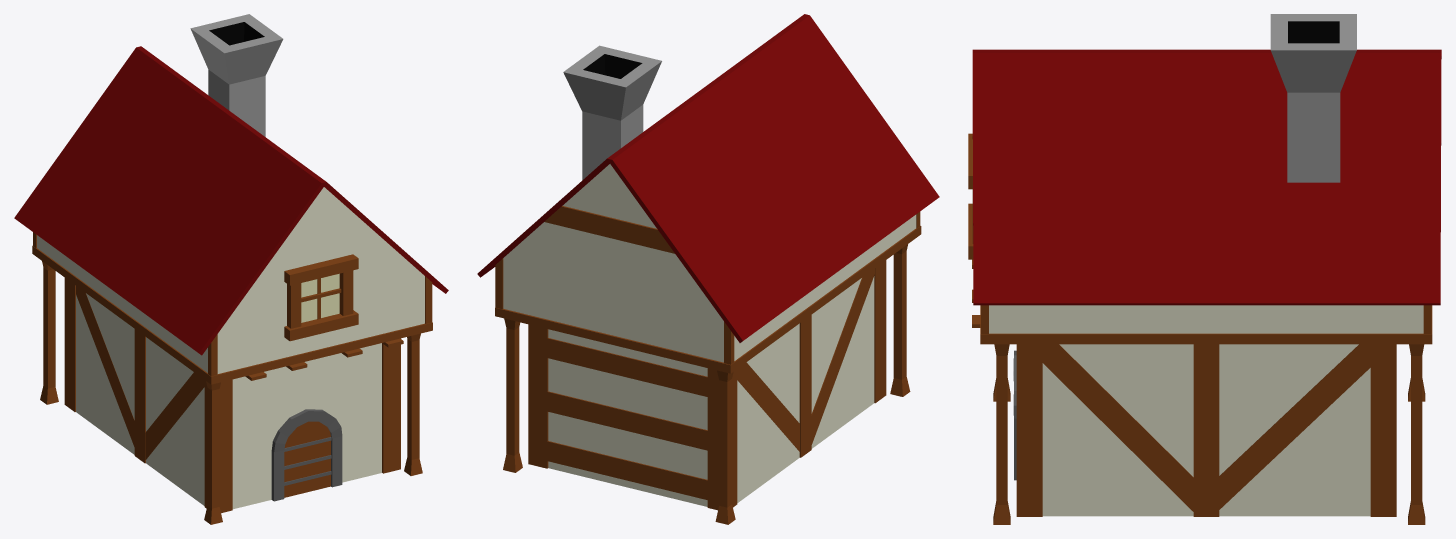
File: House1.fbx
The picture shows the model from 3 angles, left to right: view 1: azimuth 30°, elevation 25°; view 2: azimuth 150°, elevation 25°; view 3: azimuth 270°, elevation 25°; orthographic projection. The views are drawn at different scales.
Visible parts, largest first — view 1: House1; view 2: House1; view 3: House1.
Boxes of the visible parts, left/top/right/bottom form: House1: left=14, top=14, right=448, bottom=524; House1: left=477, top=14, right=939, bottom=524; House1: left=968, top=14, right=1441, bottom=524.
Bounding box in the file's own units: 1097 × 1515 × 1423.
